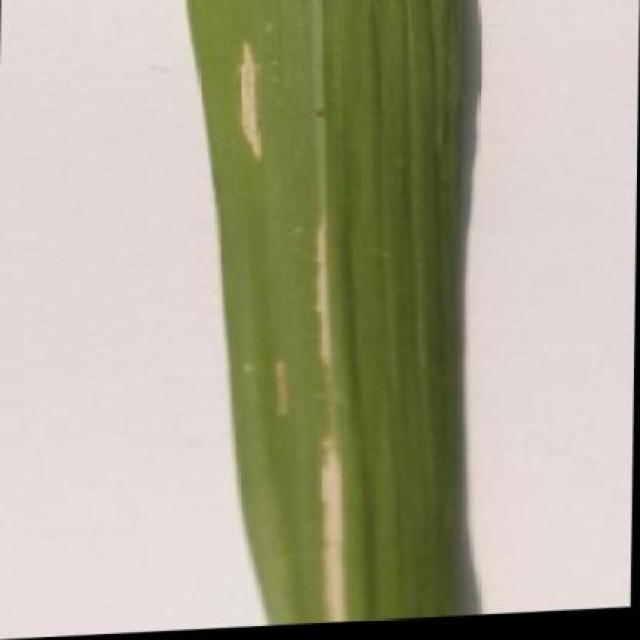Brown_Spot: (183, 2, 479, 633), (178, 22, 318, 172)
